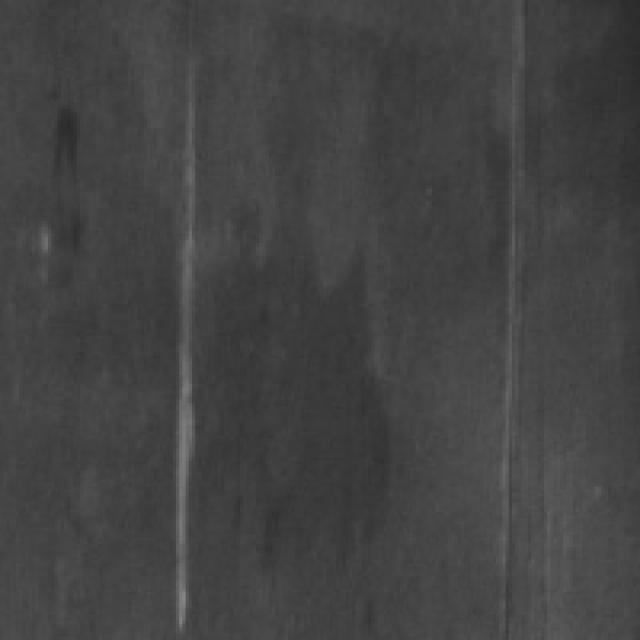scratches: (493, 0, 541, 563), (170, 90, 211, 624)
